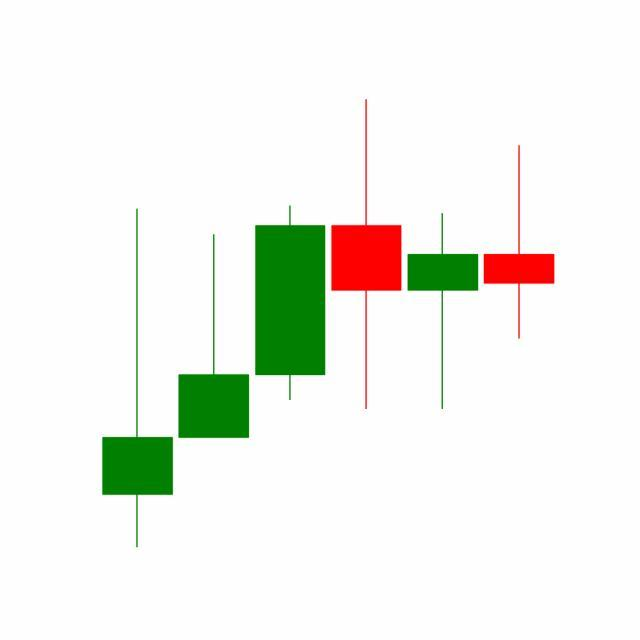Spinning Top: (404, 212, 482, 413)
